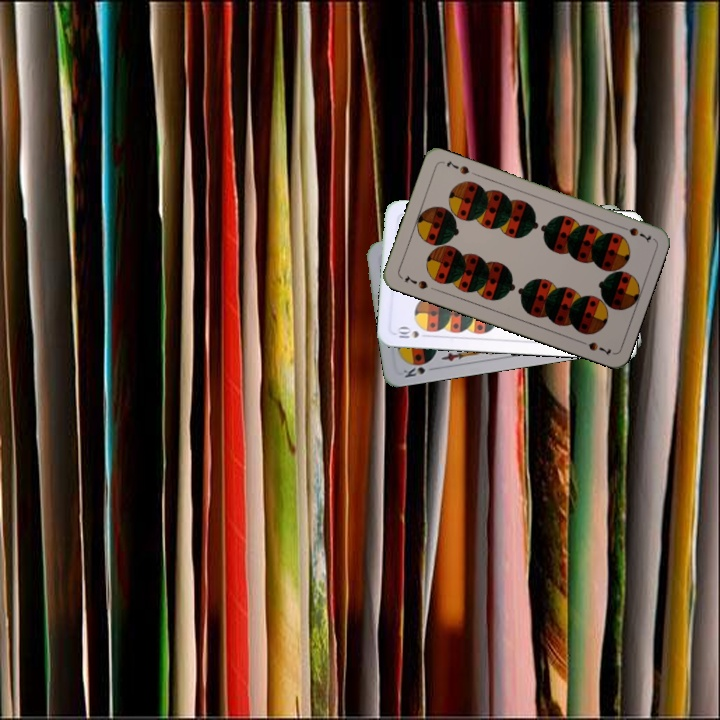S10: (393, 323, 432, 341)
S7: (616, 221, 654, 245), (400, 271, 430, 292)
SK: (399, 363, 428, 380)
